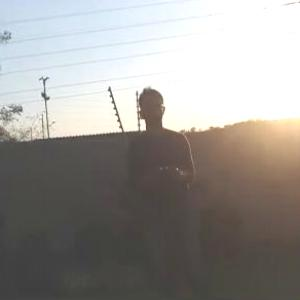follow: (124, 83, 200, 299)
